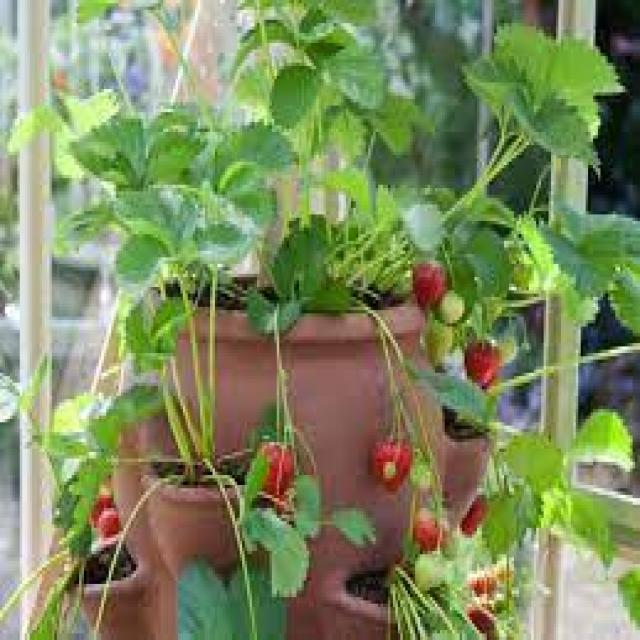Fruta sana: (464, 557, 511, 640), (250, 432, 294, 506), (372, 427, 414, 495), (412, 257, 446, 313), (464, 337, 497, 392), (85, 481, 118, 535), (412, 510, 449, 556), (466, 481, 486, 544)
